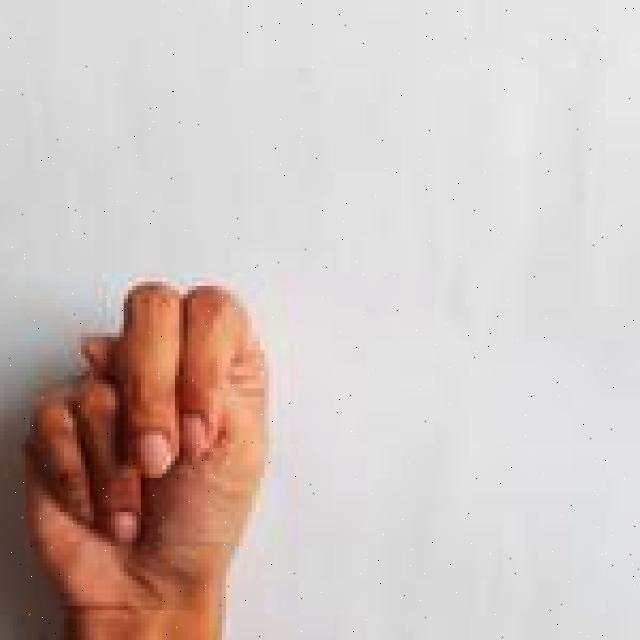N: (11, 275, 284, 640)
